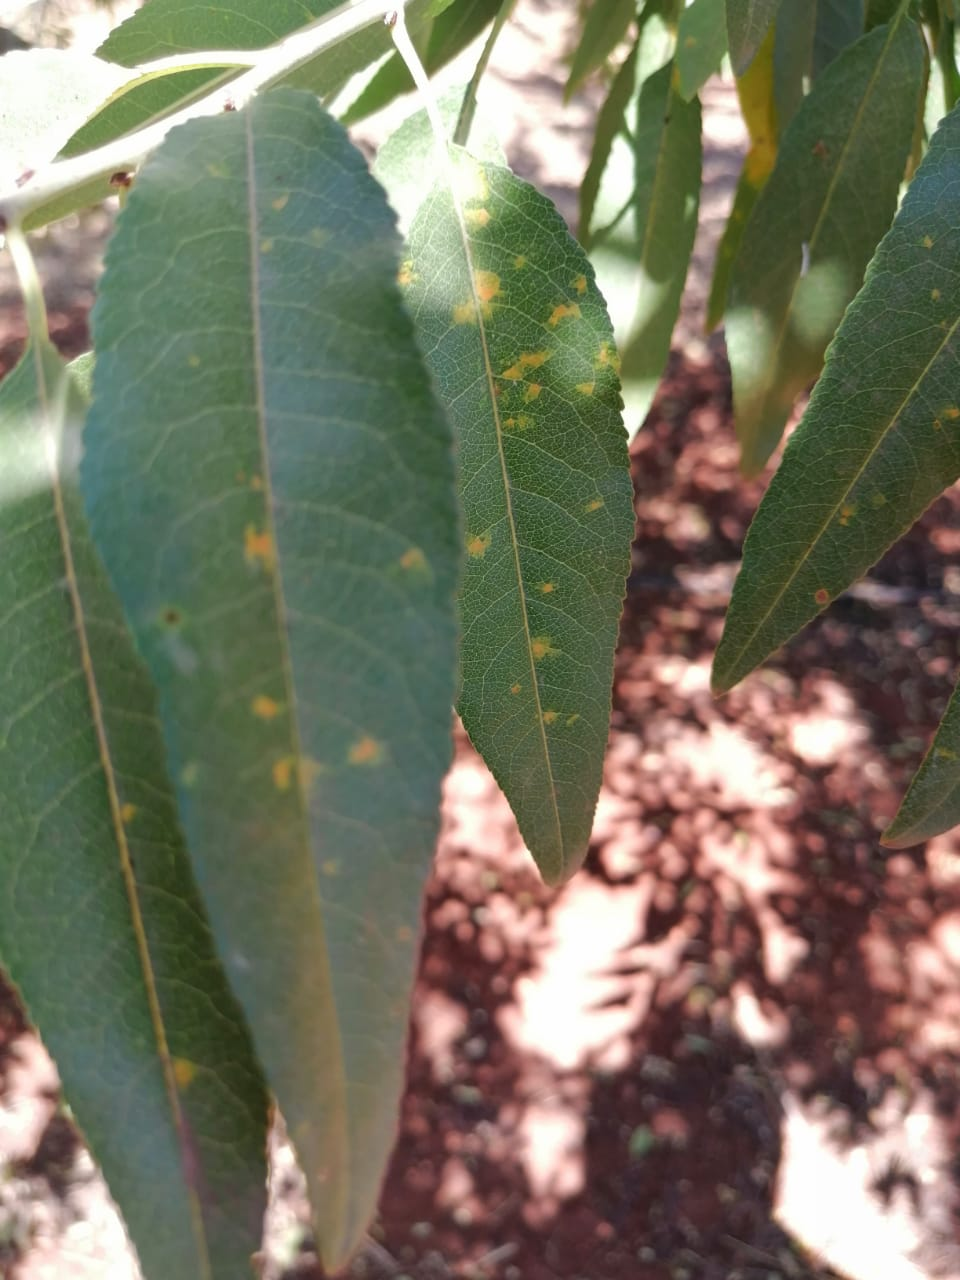polystigma: (80, 91, 465, 1277), (1, 326, 272, 1280), (402, 137, 632, 891), (707, 106, 957, 699)
